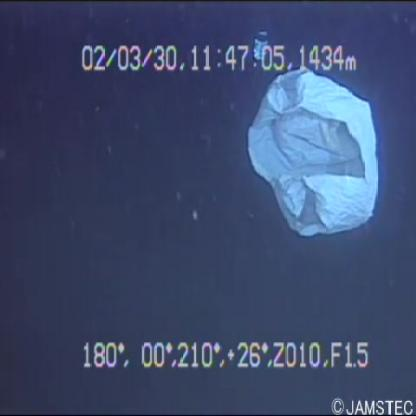Rác: (240, 40, 389, 250)
